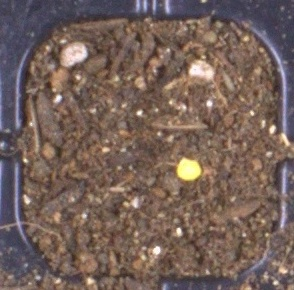chilli seed: (176, 156, 201, 182)
